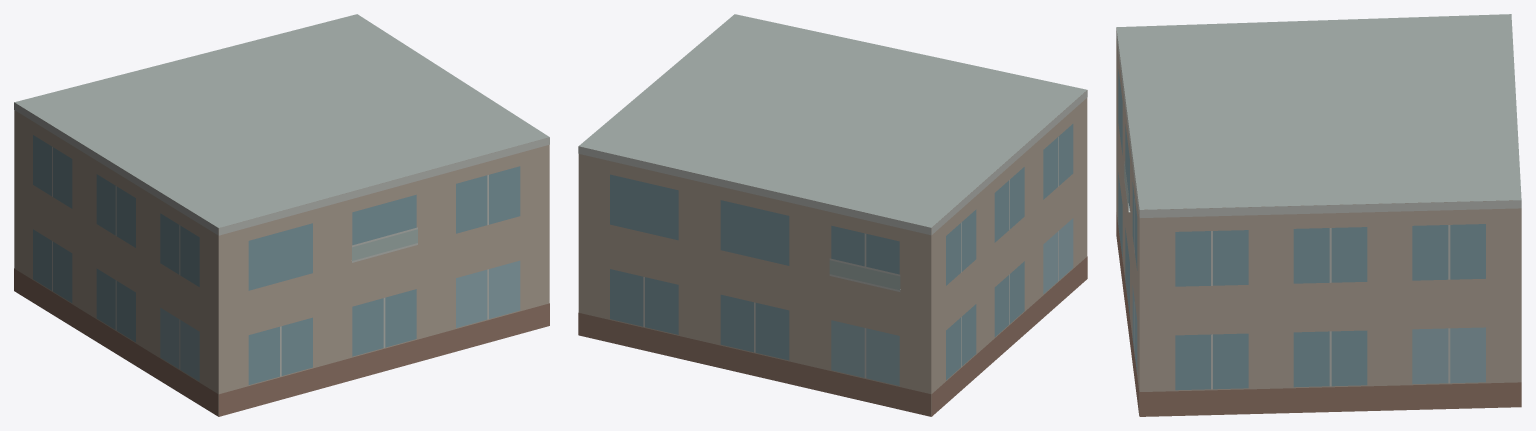
File: survey-upis-32927722.glb
The picture shows the model from 3 angles, left to right: view 1: azimuth 30°, elevation 25°; view 2: azimuth 150°, elevation 25°; view 3: azimuth 270°, elevation 25°; orthographic projection. The views are drawn at different scales.
Visible parts, largest first — view 1: survey-upis-32927722.tmp; view 2: survey-upis-32927722.tmp; view 3: survey-upis-32927722.tmp.
Boxes of the visible parts, x1=… form: survey-upis-32927722.tmp: x1=14, y1=14, x2=549, y2=416; survey-upis-32927722.tmp: x1=578, y1=14, x2=1087, y2=416; survey-upis-32927722.tmp: x1=1116, y1=14, x2=1521, y2=416.
Size of the model in its own units: 12.39 by 6.1 by 10.84.
